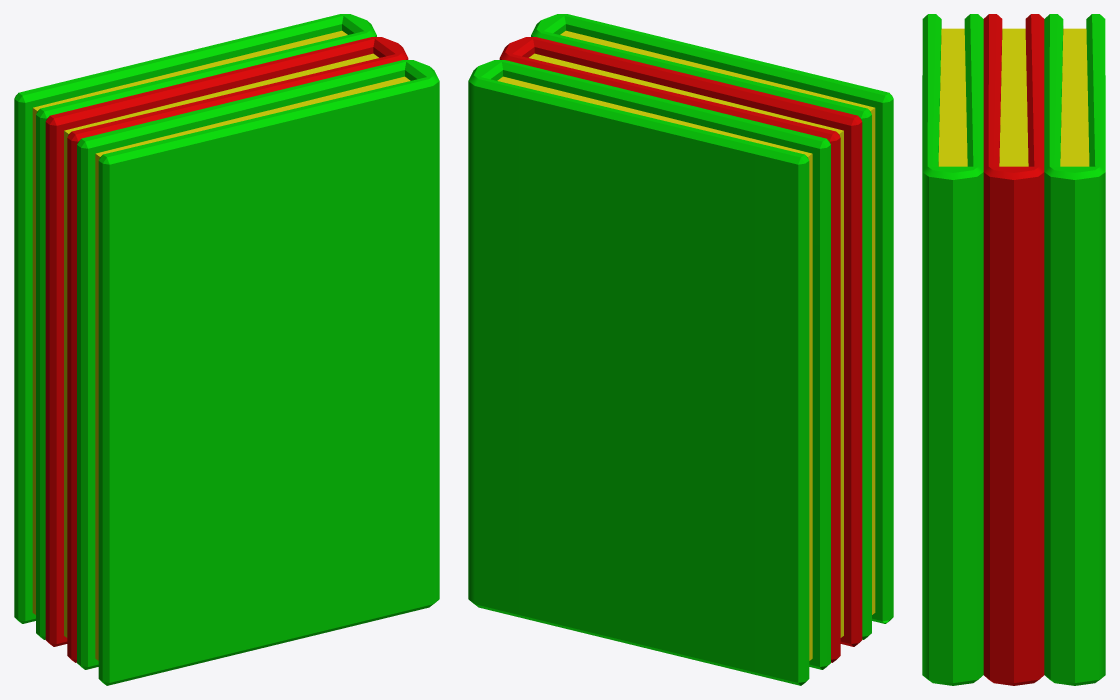
File: small_books.fbx
The picture shows the model from 3 angles, left to right: view 1: azimuth 30°, elevation 25°; view 2: azimuth 150°, elevation 25°; view 3: azimuth 270°, elevation 25°; orthographic projection. The views are drawn at different scales.
Parts seen in each view (by area): view 1: bookstack_small; view 2: bookstack_small; view 3: bookstack_small.
Boxes of the visible parts, x1,y1,x2,y2 form: bookstack_small: (14,14,439,685); bookstack_small: (468,14,893,685); bookstack_small: (922,14,1105,685).
Size of the model in its own units: 2.8 by 4.1 by 1.33.
